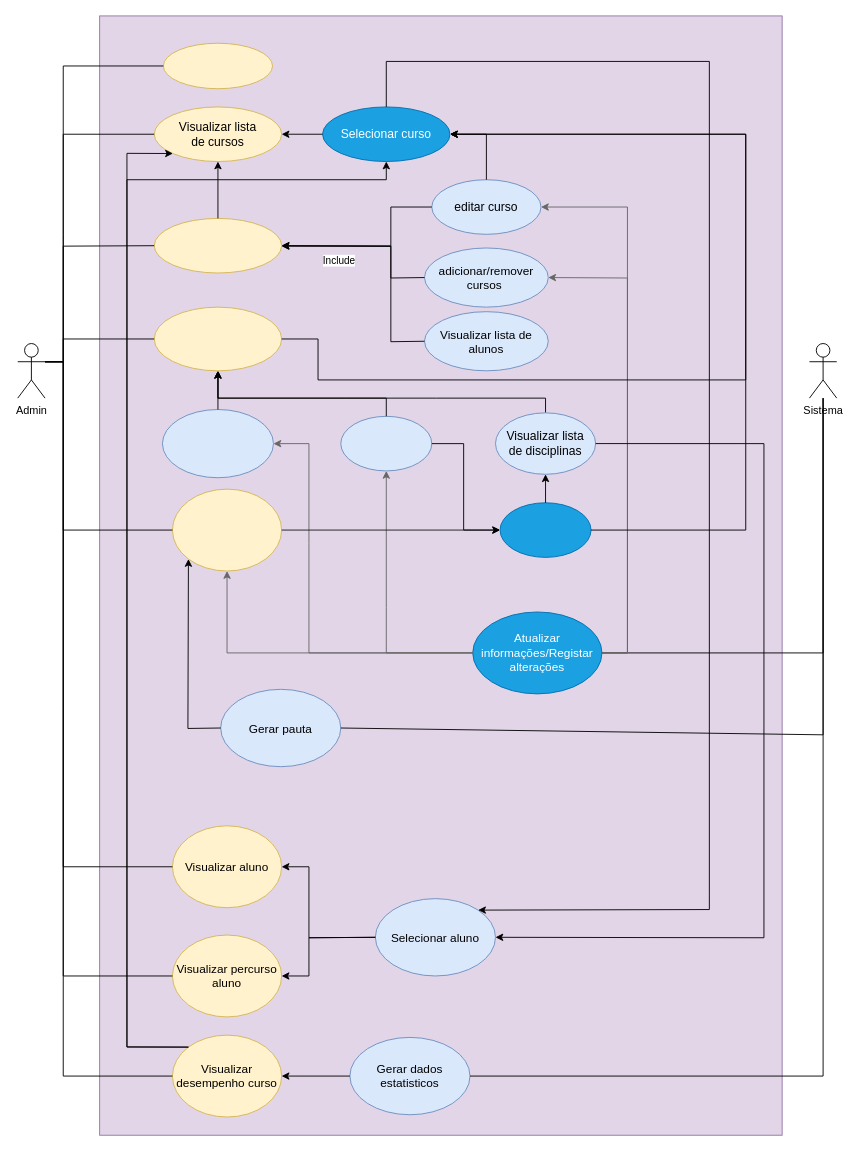
Image size: 858x1151. Some labels were removed from this diagram. The box of each missing label's shape, as (x1, y1, x2, y2) in pixels:
adicionar /remover disciplina: (162, 409, 273, 478)
Carregamento de ficheiros: (172, 488, 282, 571)
Editar disciplina: (340, 415, 432, 471)
Efetuar login: (162, 42, 273, 89)
Gerir cursos: (153, 217, 282, 273)
Gerir plano de estudo: (153, 306, 282, 371)
Selecionar disciplina: (499, 502, 591, 557)
